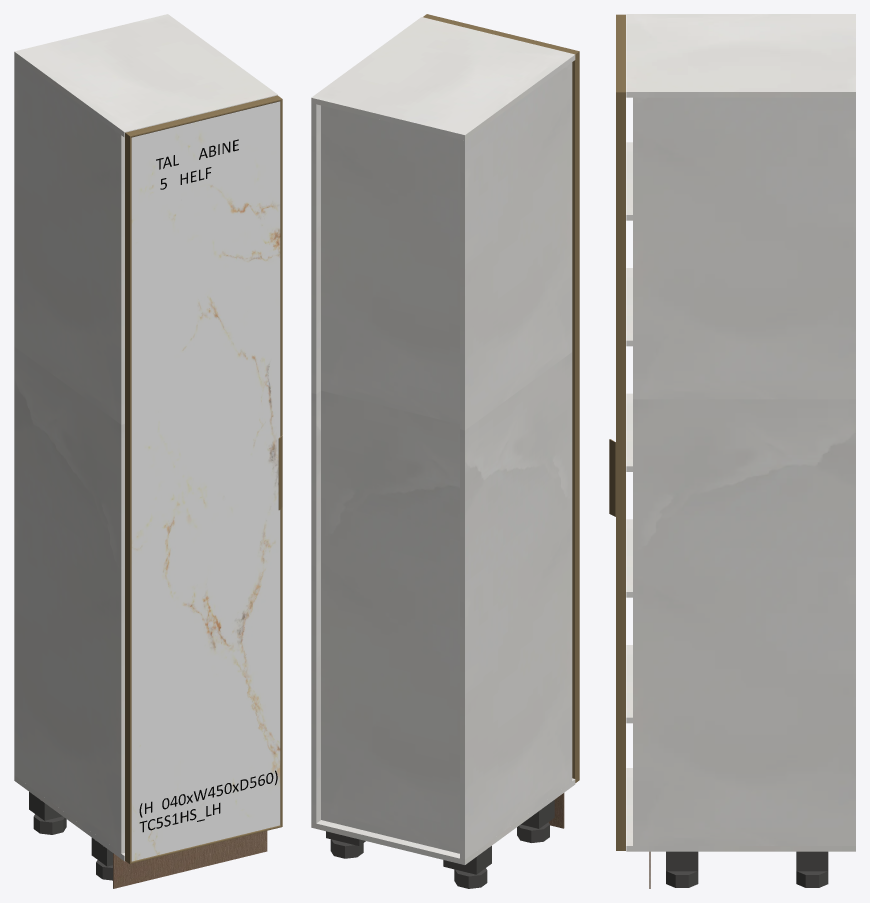
File: TC-SH-TTS-ST-5SX-LHS-XXX-450-2040-560-15.glb
3 renders of one model, left to right at view 1: azimuth 30°, elevation 25°; view 2: azimuth 150°, elevation 25°; view 3: azimuth 270°, elevation 25°, orthographic. The views are drawn at different scales.
Parts seen in each view (by area): view 1: Object_node_15, TP_node_0, TP, Extrusion_node_1, Object_node_17, Extrusion_node, Extrusion, 2D text_node_0, TP_node, 2D text; view 2: TP_node_7, TP_node_0, TP, TP_node_1, Extrusion_node_1, TP_node, Extrusion, Plate, Foot; view 3: TP_node_1, TP, Extrusion_node, TP_node, Extrusion, Plate_node, Plate_node_1, TP_node_2, TP_node_3, TP_node_4, TP_node_5, TP_node_6 (+3 smaller).
Boxes of the visible parts, <box> form: Object_node_15: <box>131,101,280,861</box>; TP_node_0: <box>14,57,124,853</box>; TP: <box>14,14,277,137</box>; Extrusion_node_1: <box>125,133,131,863</box>; Object_node_17: <box>113,831,267,888</box>; Extrusion_node: <box>280,99,282,826</box>; Extrusion: <box>125,95,282,137</box>; 2D text_node_0: <box>139,770,277,817</box>; TP_node: <box>14,775,124,861</box>; 2D text: <box>156,139,238,189</box>; TP_node_7: <box>321,105,459,853</box>; TP_node_0: <box>460,62,572,859</box>; TP: <box>311,17,575,140</box>; TP_node_1: <box>311,103,320,823</box>; Extrusion_node_1: <box>572,51,579,782</box>; TP_node: <box>311,778,575,864</box>; Extrusion: <box>423,14,579,54</box>; Plate: <box>443,846,491,874</box>; Foot: <box>454,868,487,888</box>; TP_node_1: <box>633,97,855,845</box>; TP: <box>626,14,855,97</box>; Extrusion_node: <box>616,92,625,850</box>; TP_node: <box>626,768,855,851</box>; Extrusion: <box>616,14,625,92</box>; Plate_node: <box>796,851,828,871</box>; Plate_node_1: <box>666,851,698,871</box>; TP_node_2: <box>626,645,632,723</box>; TP_node_3: <box>626,519,632,597</box>; TP_node_4: <box>626,393,632,471</box>; TP_node_5: <box>626,268,632,346</box>; TP_node_6: <box>626,142,632,220</box>.
Size of what is drawn, in the model's own units: 0.4505 by 2.14 by 0.6034.
7 materials, 3 textured.
